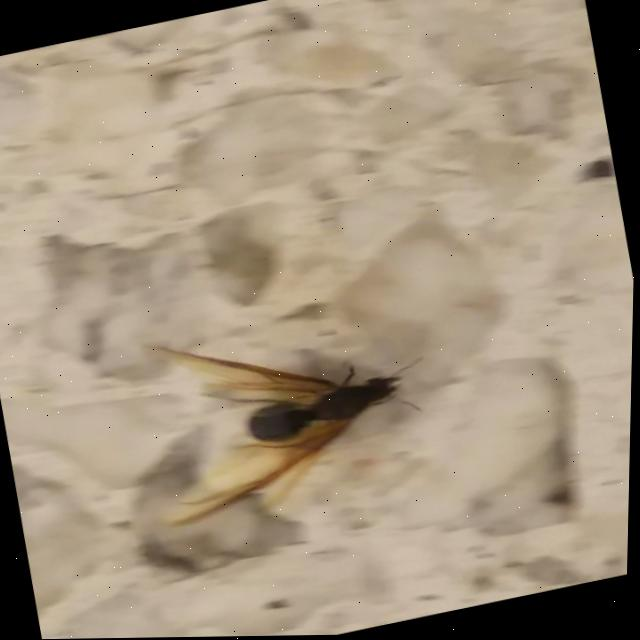Alive-Female-Alate: (126, 288, 450, 535)
